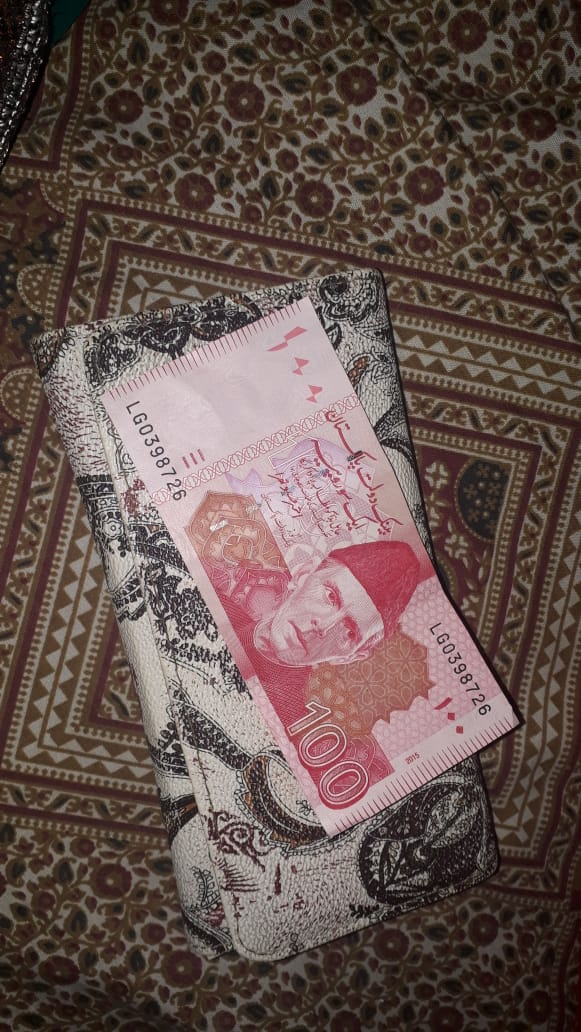100 rupee: (110, 305, 523, 817)
